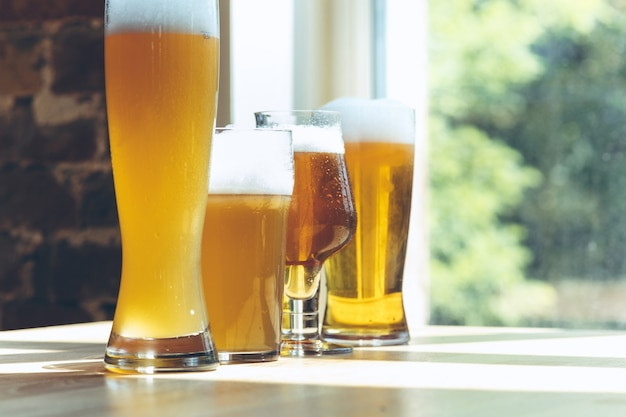alcohol: (96, 0, 224, 375), (251, 111, 360, 356), (316, 98, 413, 346), (201, 128, 292, 360)
